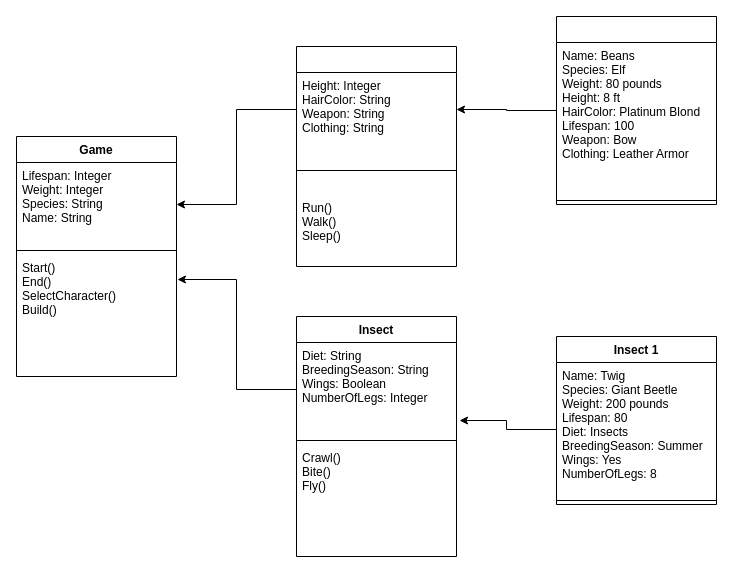
This 733x573 diagram has some shape labels left out. The shapes that lost their labels are listed below. From the top down, each one's box as (x1, y1, x2, y2) in pixels, then its label:
(556, 16, 716, 204): Player 1
(296, 46, 456, 266): Player
